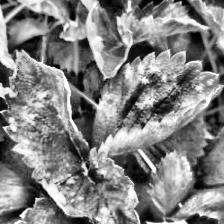Powdery Mildew Leaf: (90, 48, 224, 156), (0, 49, 89, 186), (40, 148, 144, 224), (86, 0, 133, 81), (61, 0, 132, 21), (0, 0, 14, 88)
